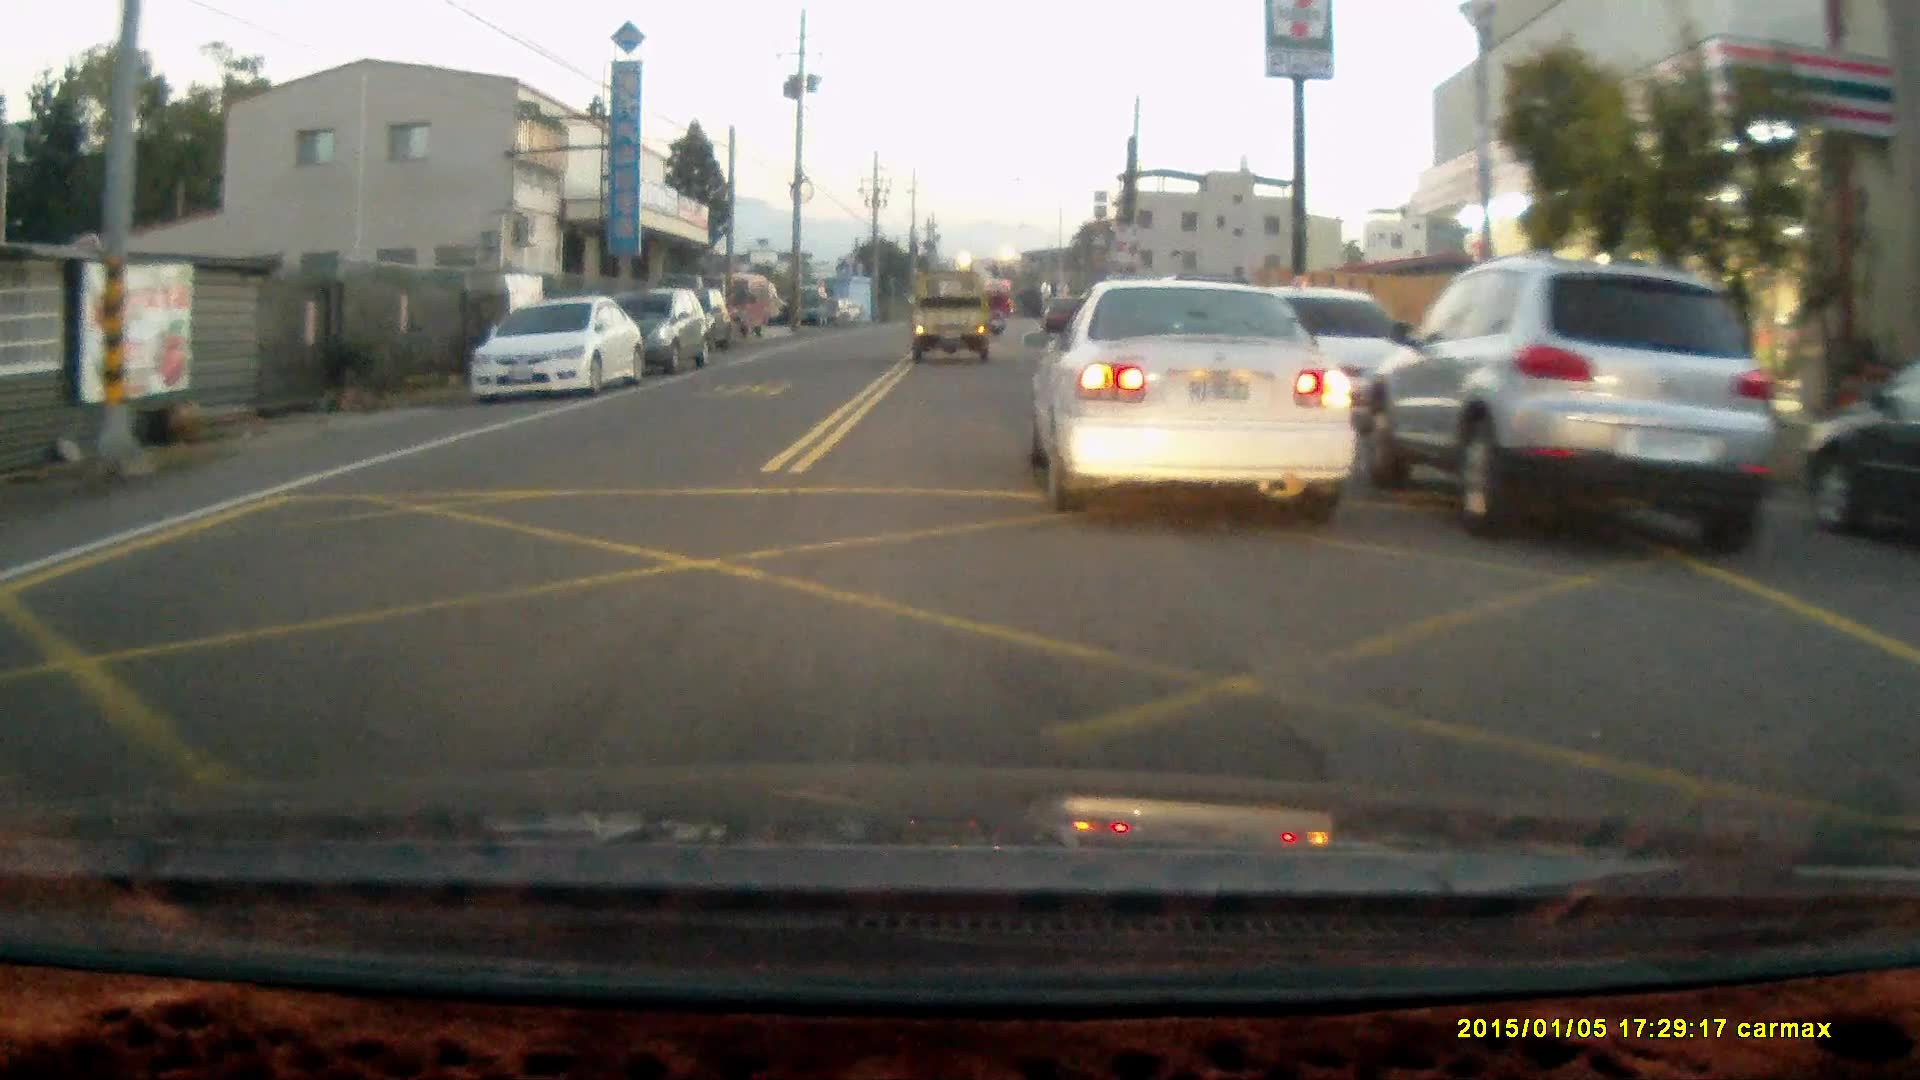rider: (983, 285, 1010, 336)
vehicle: (1359, 263, 1774, 556), (1033, 278, 1359, 512), (1798, 367, 1919, 551), (472, 296, 643, 410), (603, 295, 712, 380), (908, 269, 995, 365), (713, 273, 775, 343)
